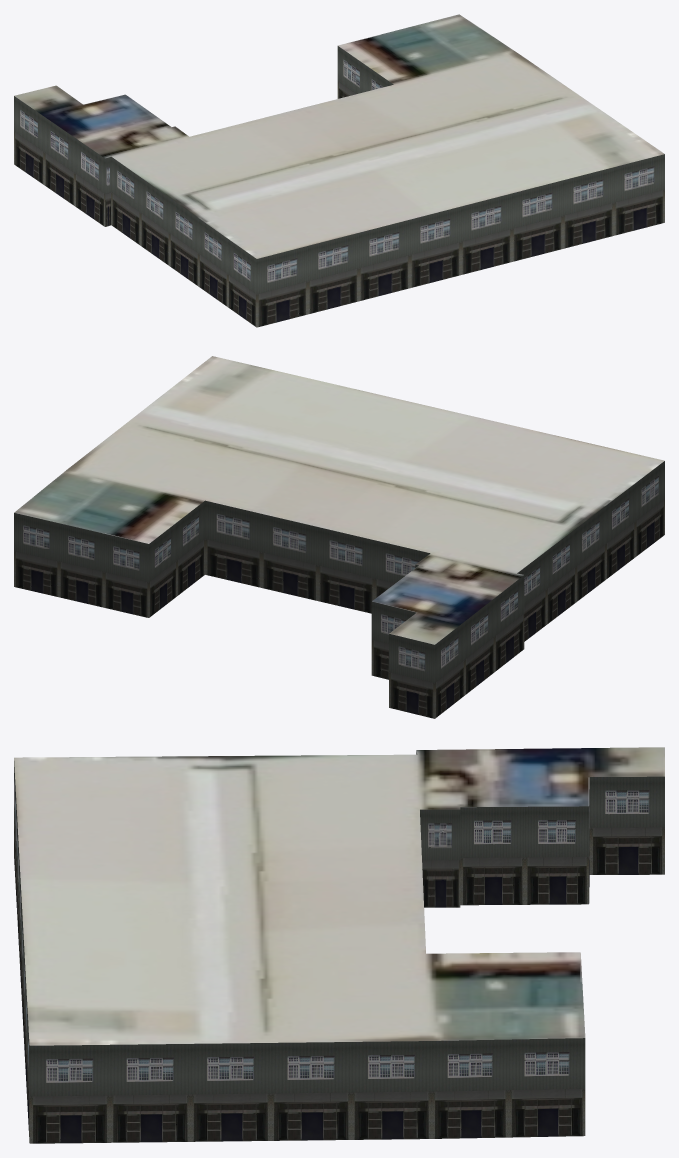
3 views of the same model, one above another, from view 1: azimuth 30°, elevation 25°; view 2: azimuth 150°, elevation 25°; view 3: azimuth 270°, elevation 25° (orthographic). The views are drawn at different scales.
Visible parts, largest first — view 1: SketchUp (×8); view 2: SketchUp (×15); view 3: SketchUp (×13).
Part boxes in pixels (<box>): SketchUp (×8): <box>14,14,664,327</box>; SketchUp (×15): <box>14,356,664,718</box>; SketchUp (×13): <box>14,747,664,1143</box>.
Size of the model in its own units: 44.56 by 41.05 by 6.82.
Materials: 3 (3 with a texture image).
